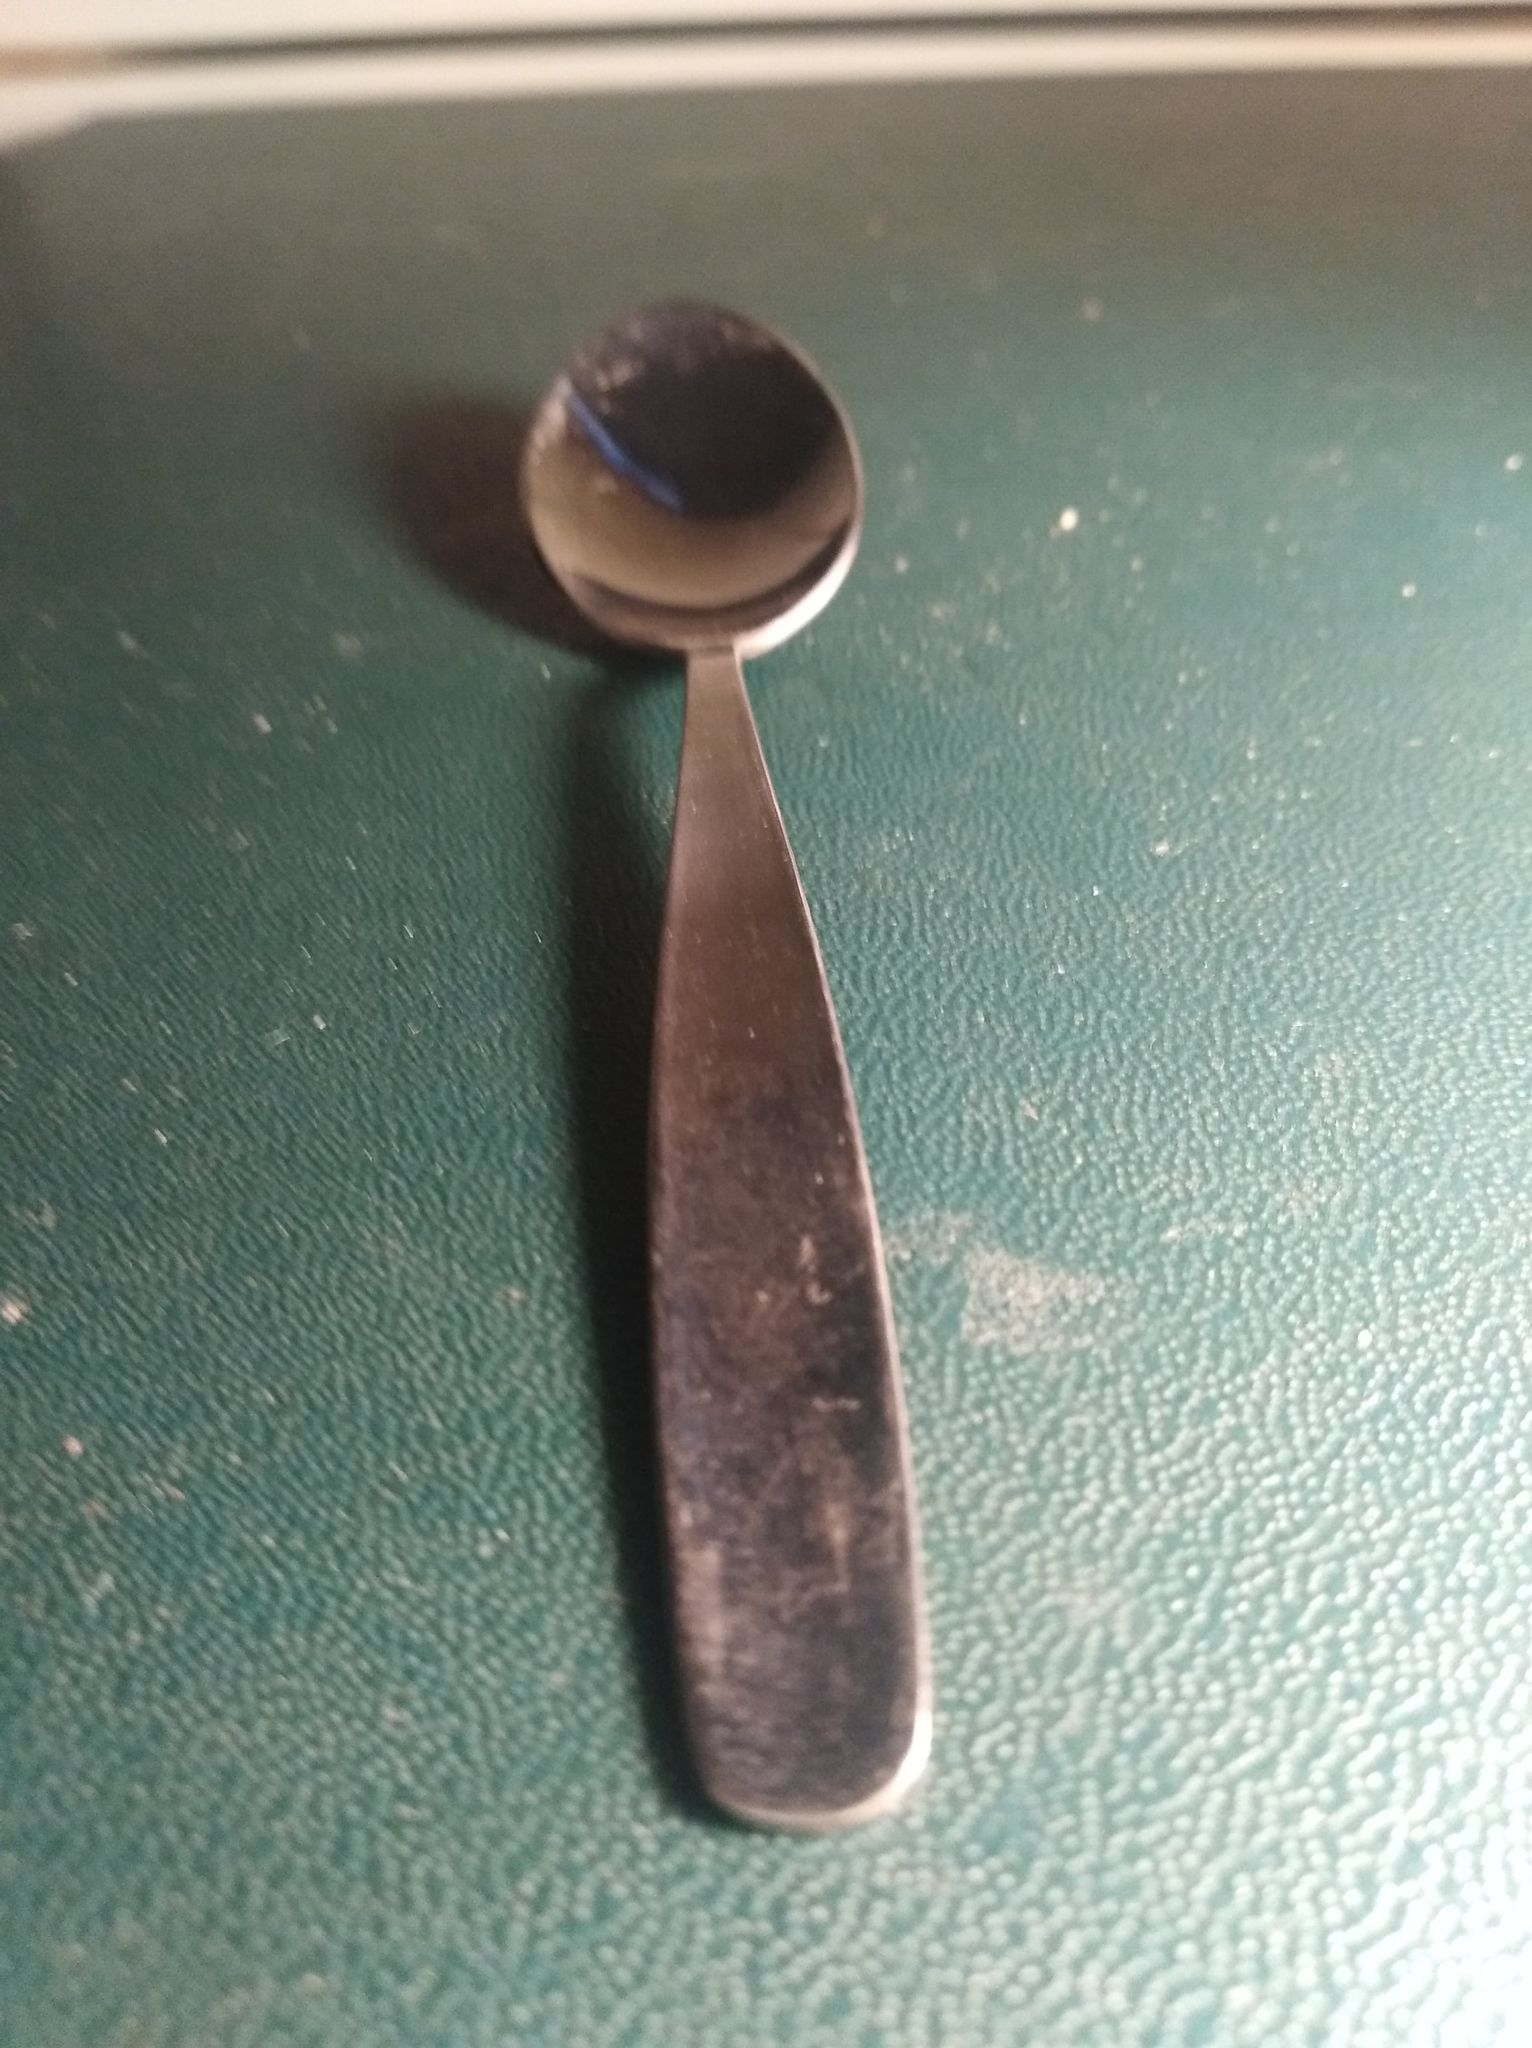Lyzka: (502, 272, 903, 692)
